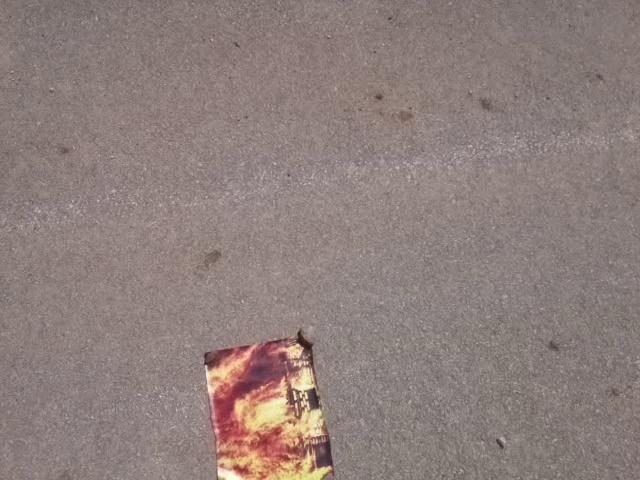fire-poster: (201, 326, 337, 479)
